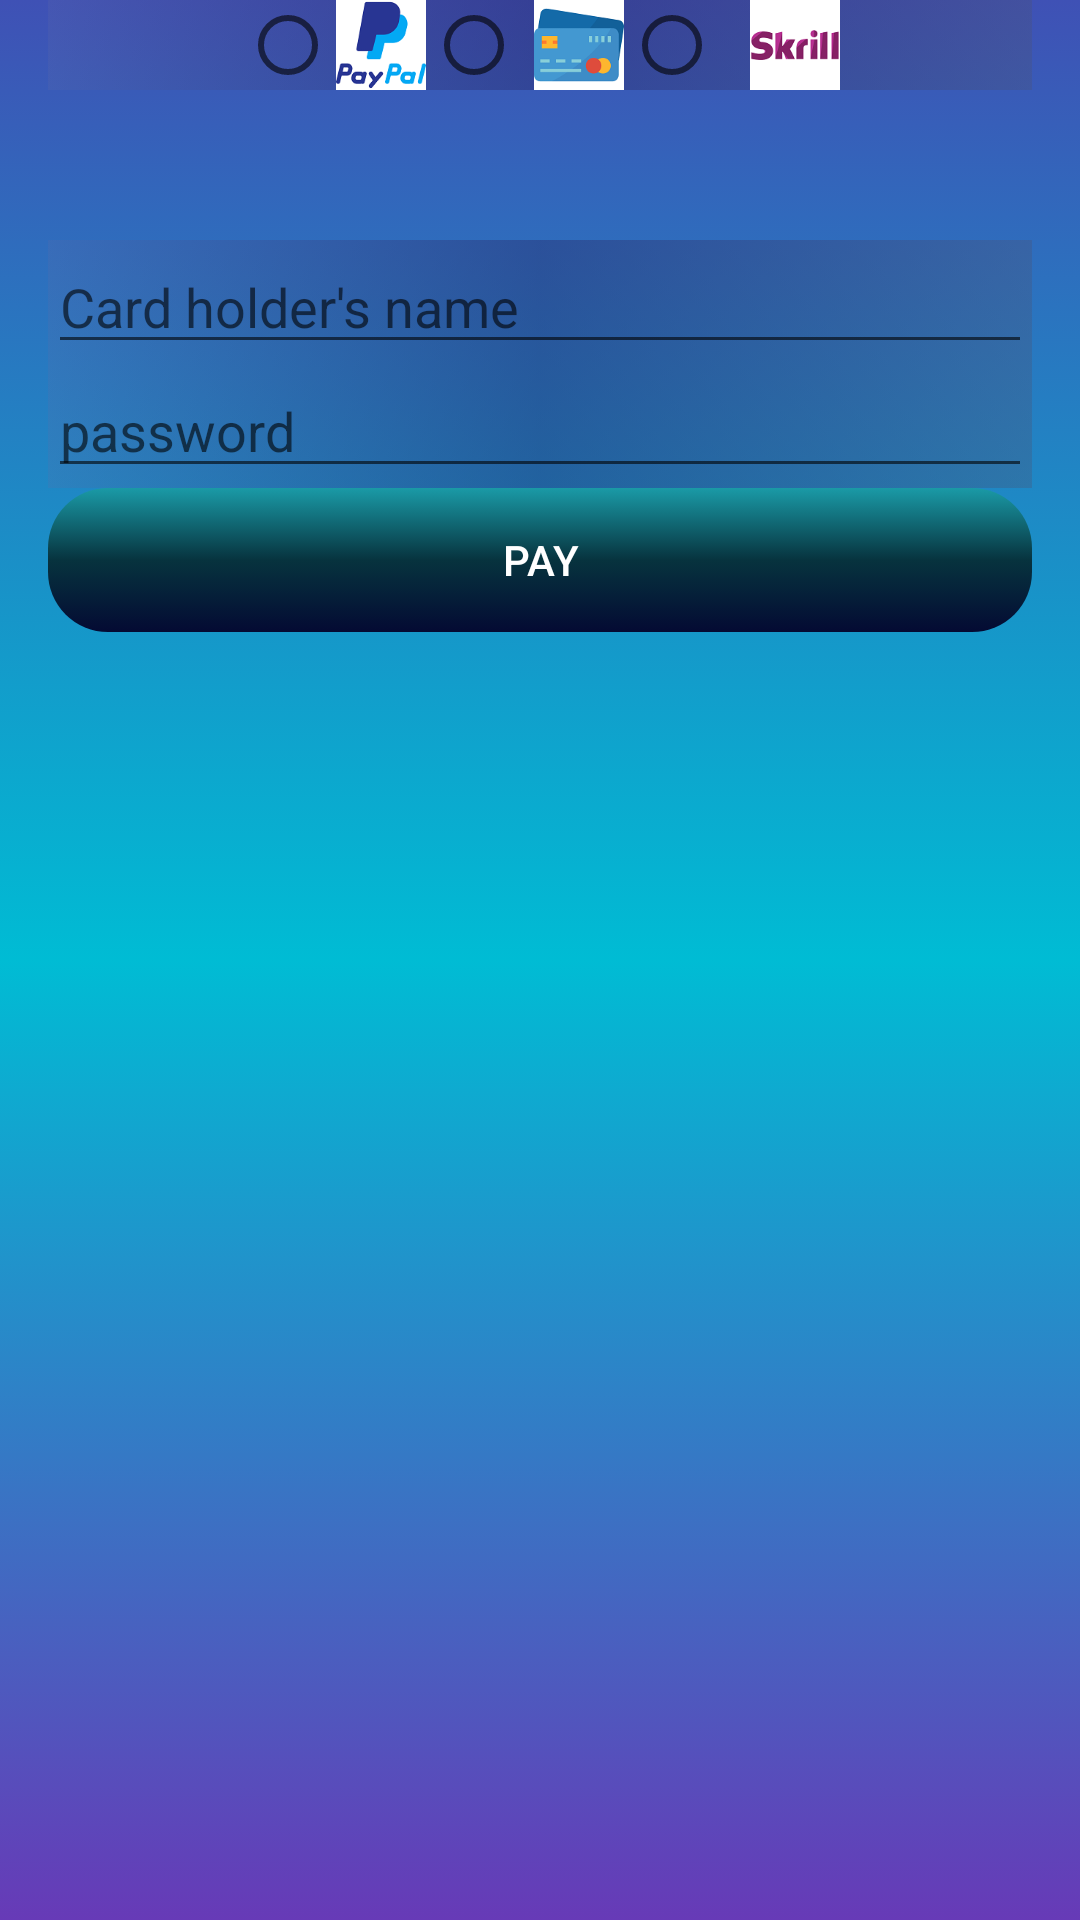

Screen size 1080 x 1920. Icon name, then its center in pixels as point (x, y):
creditcard: point (579, 45)
